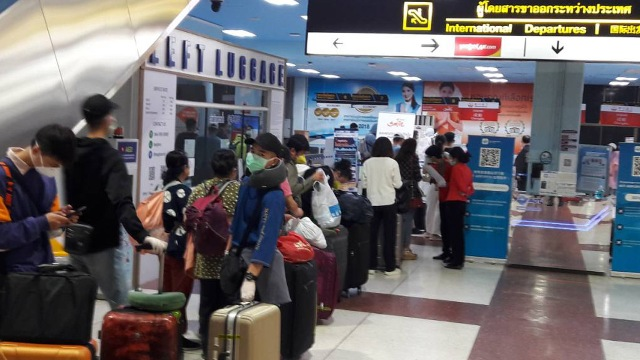backpack: (182, 191, 231, 259), (130, 191, 174, 258)
bag: (1, 261, 96, 344), (310, 181, 342, 229), (216, 251, 249, 296), (286, 215, 328, 249), (338, 187, 374, 222), (274, 233, 315, 261), (62, 222, 93, 256), (404, 193, 426, 213)
luggage: (101, 242, 187, 360), (206, 301, 280, 360), (281, 261, 315, 358), (312, 247, 339, 324), (345, 220, 369, 294), (374, 213, 404, 270), (1, 343, 95, 360), (325, 227, 346, 303)
people: (65, 93, 153, 319), (1, 124, 76, 270), (228, 130, 288, 311), (151, 149, 200, 350), (191, 146, 234, 343), (361, 133, 405, 280), (426, 135, 457, 263), (286, 130, 323, 213), (447, 147, 469, 270), (396, 138, 422, 201)
